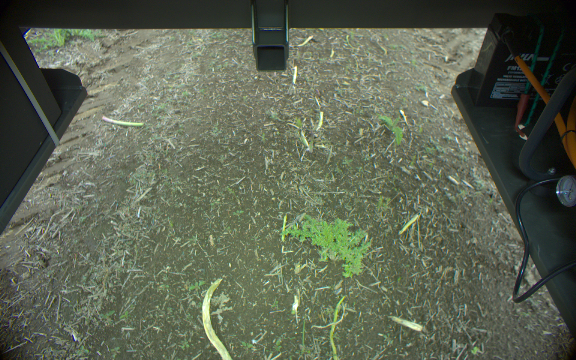aspa: (101, 114, 144, 128), (281, 211, 290, 241)
